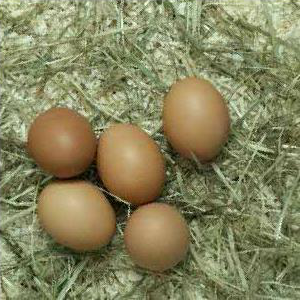egg: (164, 77, 230, 162), (36, 181, 115, 251), (97, 124, 165, 204), (29, 107, 96, 178), (123, 205, 189, 274)
